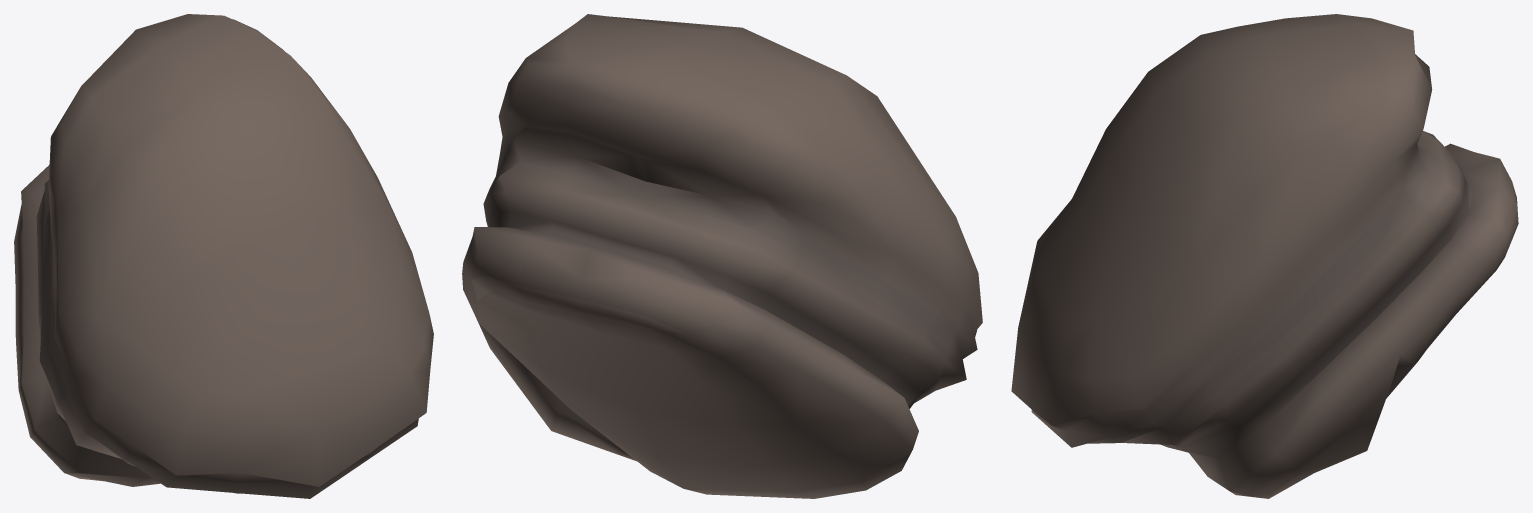
Rendered from SlantedRock.004.glb.
3 views of the same model, side by side, from view 1: azimuth 30°, elevation 25°; view 2: azimuth 150°, elevation 25°; view 3: azimuth 270°, elevation 25° (orthographic). The views are drawn at different scales.
Parts seen in each view (by area): view 1: SlantedRock.004; view 2: SlantedRock.004; view 3: SlantedRock.004.
Part boxes in pixels (x1,y1,x2,y2): SlantedRock.004: (14,14,433,498); SlantedRock.004: (462,14,982,498); SlantedRock.004: (1011,14,1518,498).
Size of the model in its own units: 1291 by 1438 by 1479.
